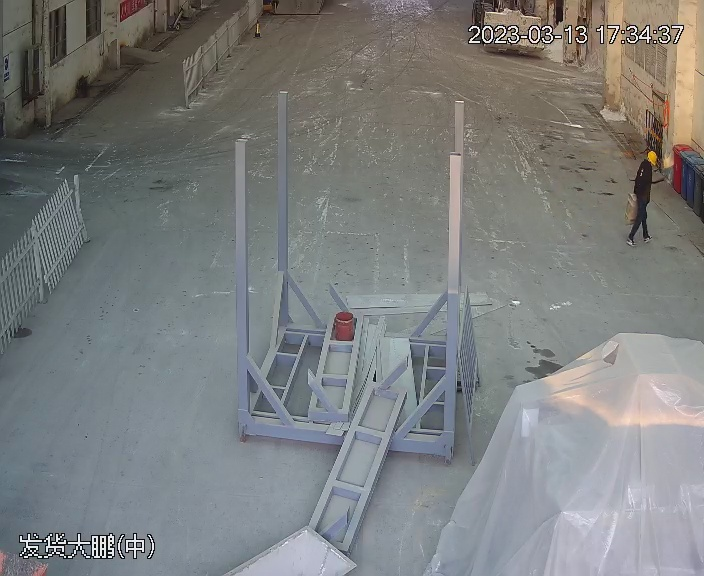head: (636, 148, 660, 178)
helmet: (645, 149, 660, 165)
people: (623, 144, 663, 248)
